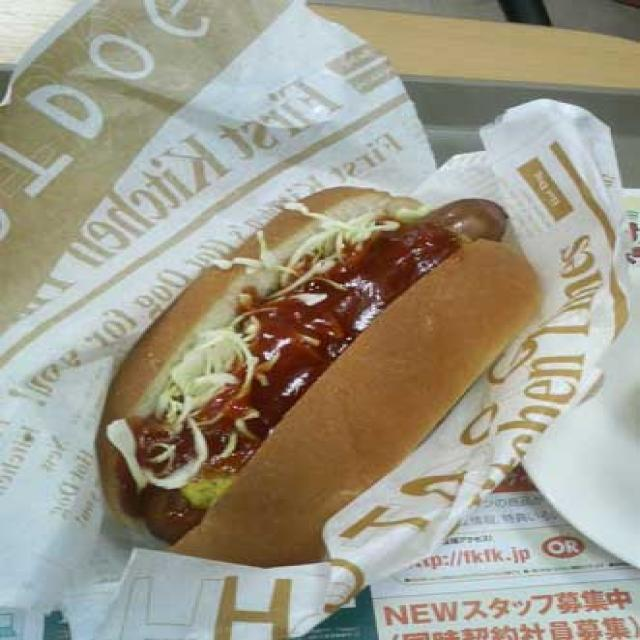Hot Dog: (89, 178, 553, 582)
